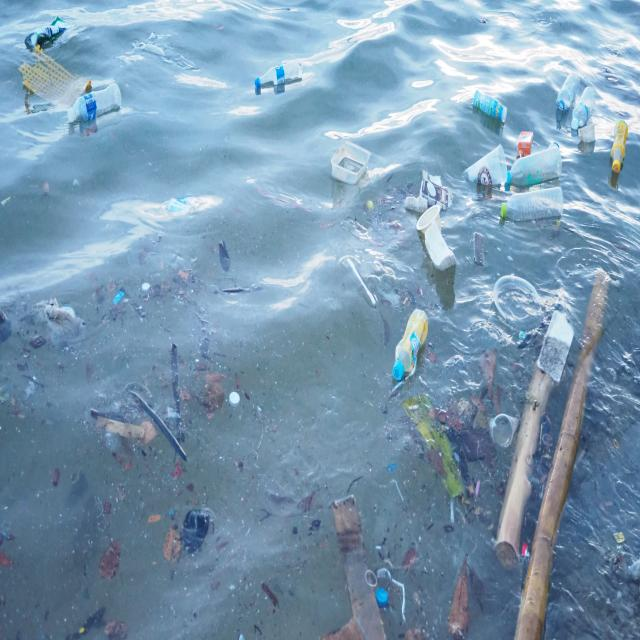foam: (424, 226, 459, 277)
plastic: (393, 301, 427, 384), (498, 183, 566, 224), (506, 144, 563, 192), (64, 83, 124, 127), (252, 56, 304, 90), (607, 111, 633, 178), (570, 79, 598, 136), (468, 85, 508, 124), (554, 66, 578, 111)
plastic bottle: (491, 273, 543, 327), (347, 250, 380, 316), (461, 140, 509, 185), (324, 138, 370, 184), (22, 12, 72, 49), (488, 403, 518, 452), (416, 208, 446, 238)
unknow: (327, 499, 378, 640), (1, 289, 84, 353), (127, 380, 187, 461), (18, 47, 88, 110), (533, 306, 578, 379), (93, 408, 154, 456), (168, 498, 214, 560), (417, 169, 455, 213), (516, 121, 535, 160), (402, 189, 426, 211)
